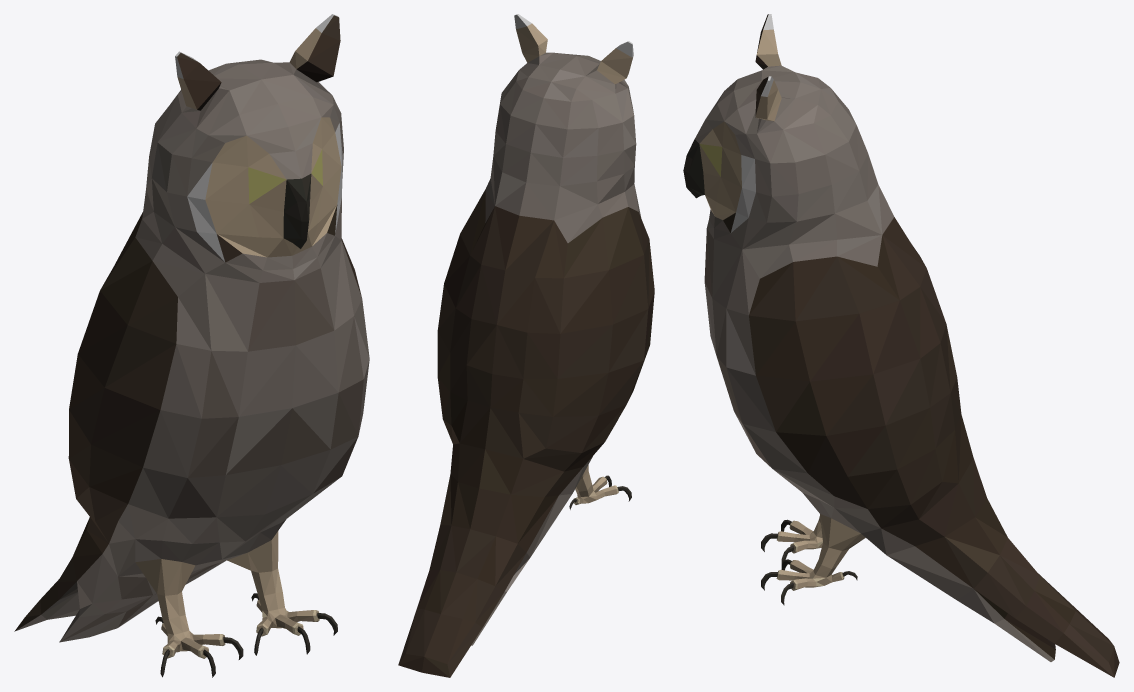
File: owl.glb
3 views of the same model, side by side, from view 1: azimuth 30°, elevation 25°; view 2: azimuth 150°, elevation 25°; view 3: azimuth 270°, elevation 25° (orthographic). The views are drawn at different scales.
Visible parts, largest first — view 1: owl; view 2: owl; view 3: owl.
Part boxes in pixels (<box>): owl: <box>14,14,369,677</box>; owl: <box>398,14,654,677</box>; owl: <box>683,14,1119,677</box>.
Size of the model in its own units: 4.74 by 12.73 by 8.14.
